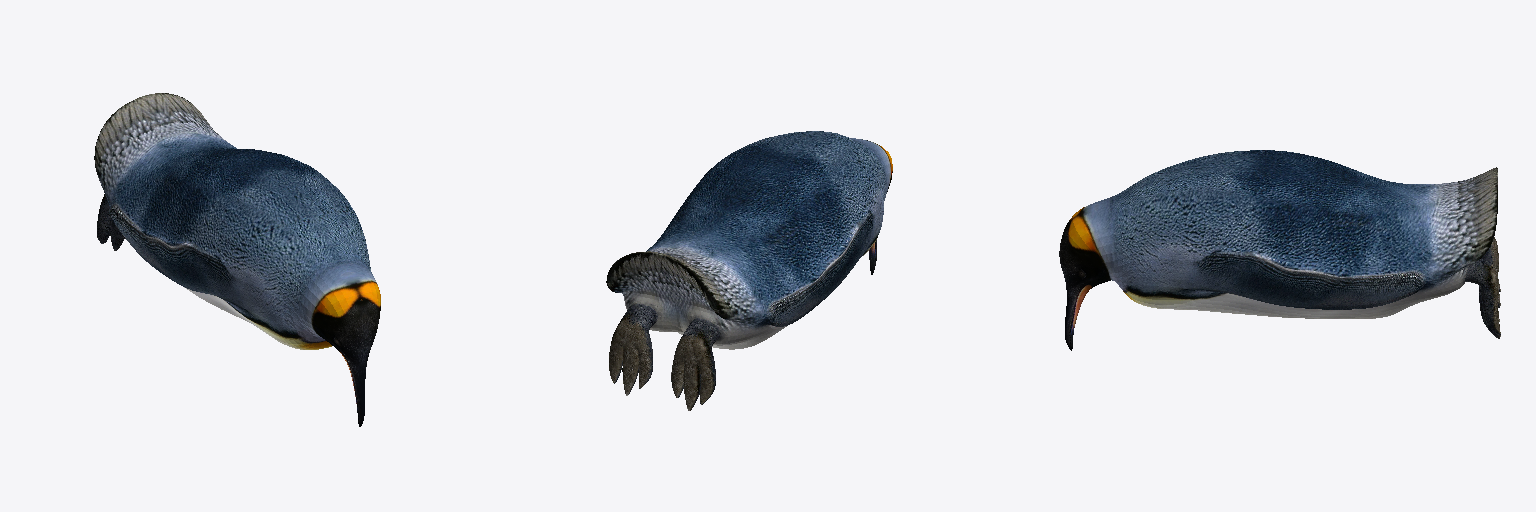
3 views of the same model, side by side, from view 1: azimuth 30°, elevation 25°; view 2: azimuth 150°, elevation 25°; view 3: azimuth 270°, elevation 25° (orthographic).
Parts seen in each view (by area): view 1: pinguin; view 2: pinguin; view 3: pinguin.
Part boxes in pixels (x1,y1,x2,y2): pinguin: (94, 93, 380, 426); pinguin: (606, 131, 892, 410); pinguin: (1059, 150, 1500, 350).
Size of the model in its own units: 43.35 by 49.12 by 103.
1 materials, 1 textured.